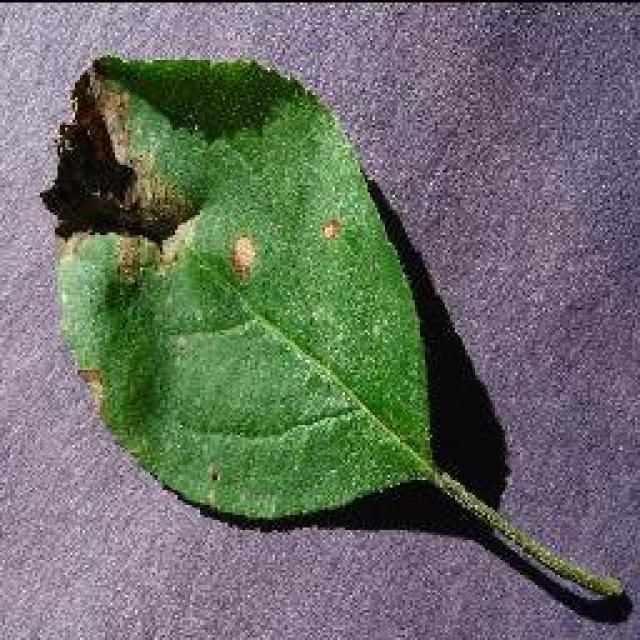Black_rot: (40, 52, 630, 622)
